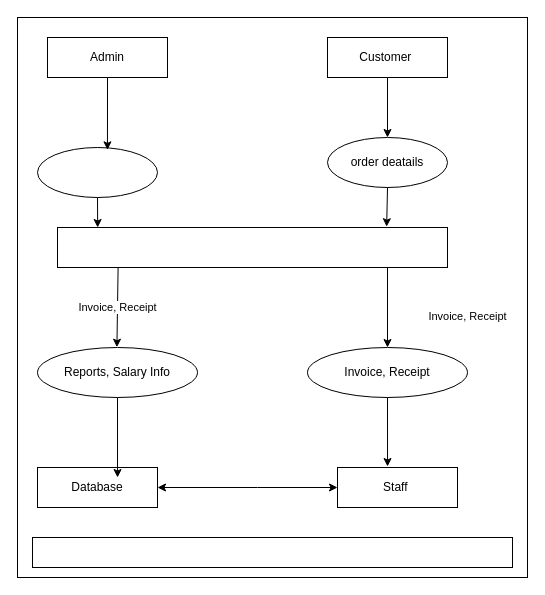
Some shapes in this 545 by 595 pixel diagram are drawn without their labels. The centre of each missing label's shape, as x and y in pixels:
"input" belongs at pixel 97 172.
"Naadbramha - Sales & Attendance System" belongs at pixel 252 247.
"ZERO LEVEL DFD DIAGRAM" belongs at pixel 272 552.
